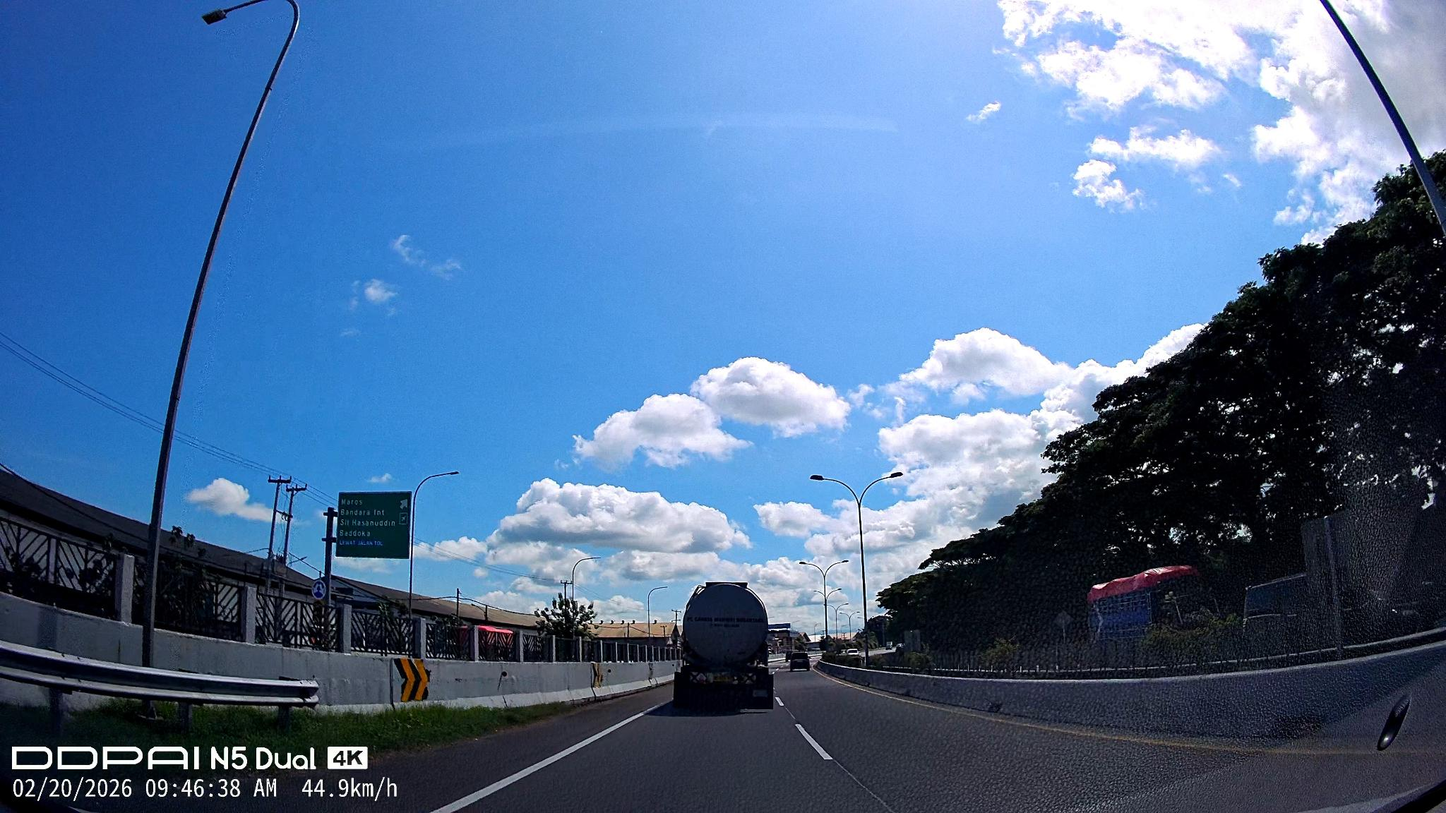rambu_teks: (337, 490, 411, 560)
